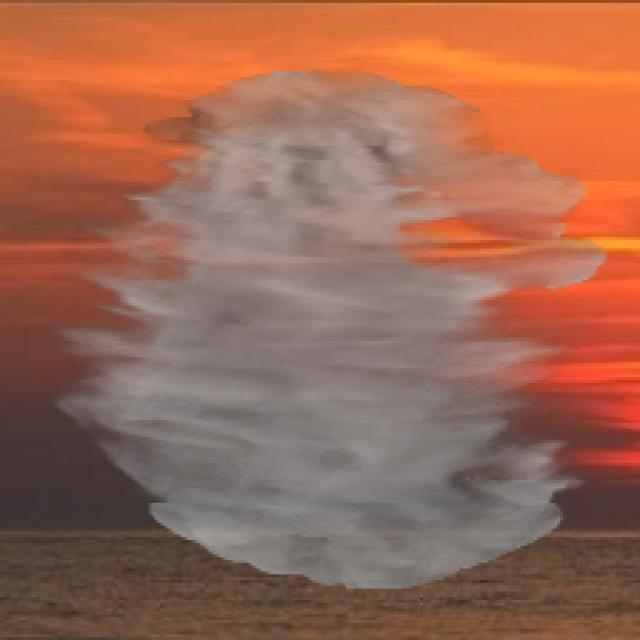smoke: (46, 69, 608, 588)
